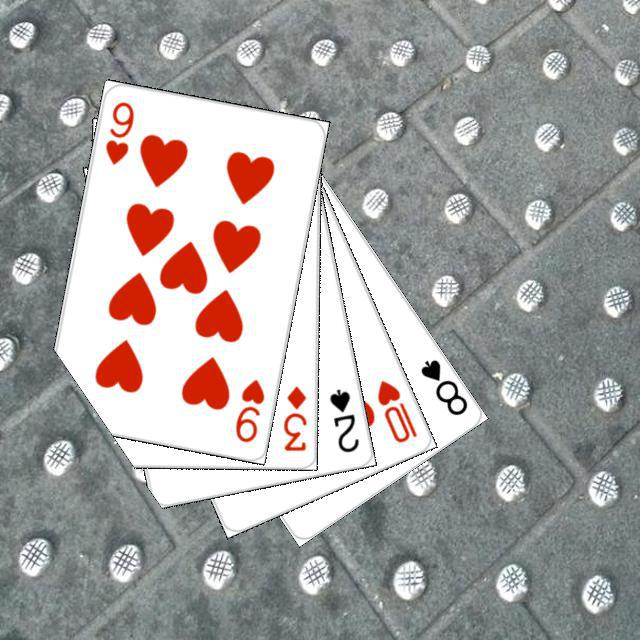10h: (372, 375, 419, 445)
2s: (324, 384, 361, 454)
3d: (278, 381, 309, 453)
8s: (415, 354, 470, 418)
9h: (100, 96, 136, 167), (230, 374, 266, 444)
